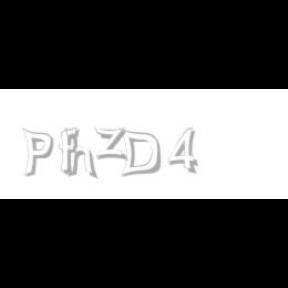4: (168, 128, 198, 174)
D: (118, 128, 162, 178)
P: (22, 128, 54, 178)
f: (59, 128, 83, 174)
h: (64, 128, 100, 180)
z: (94, 128, 130, 160)
